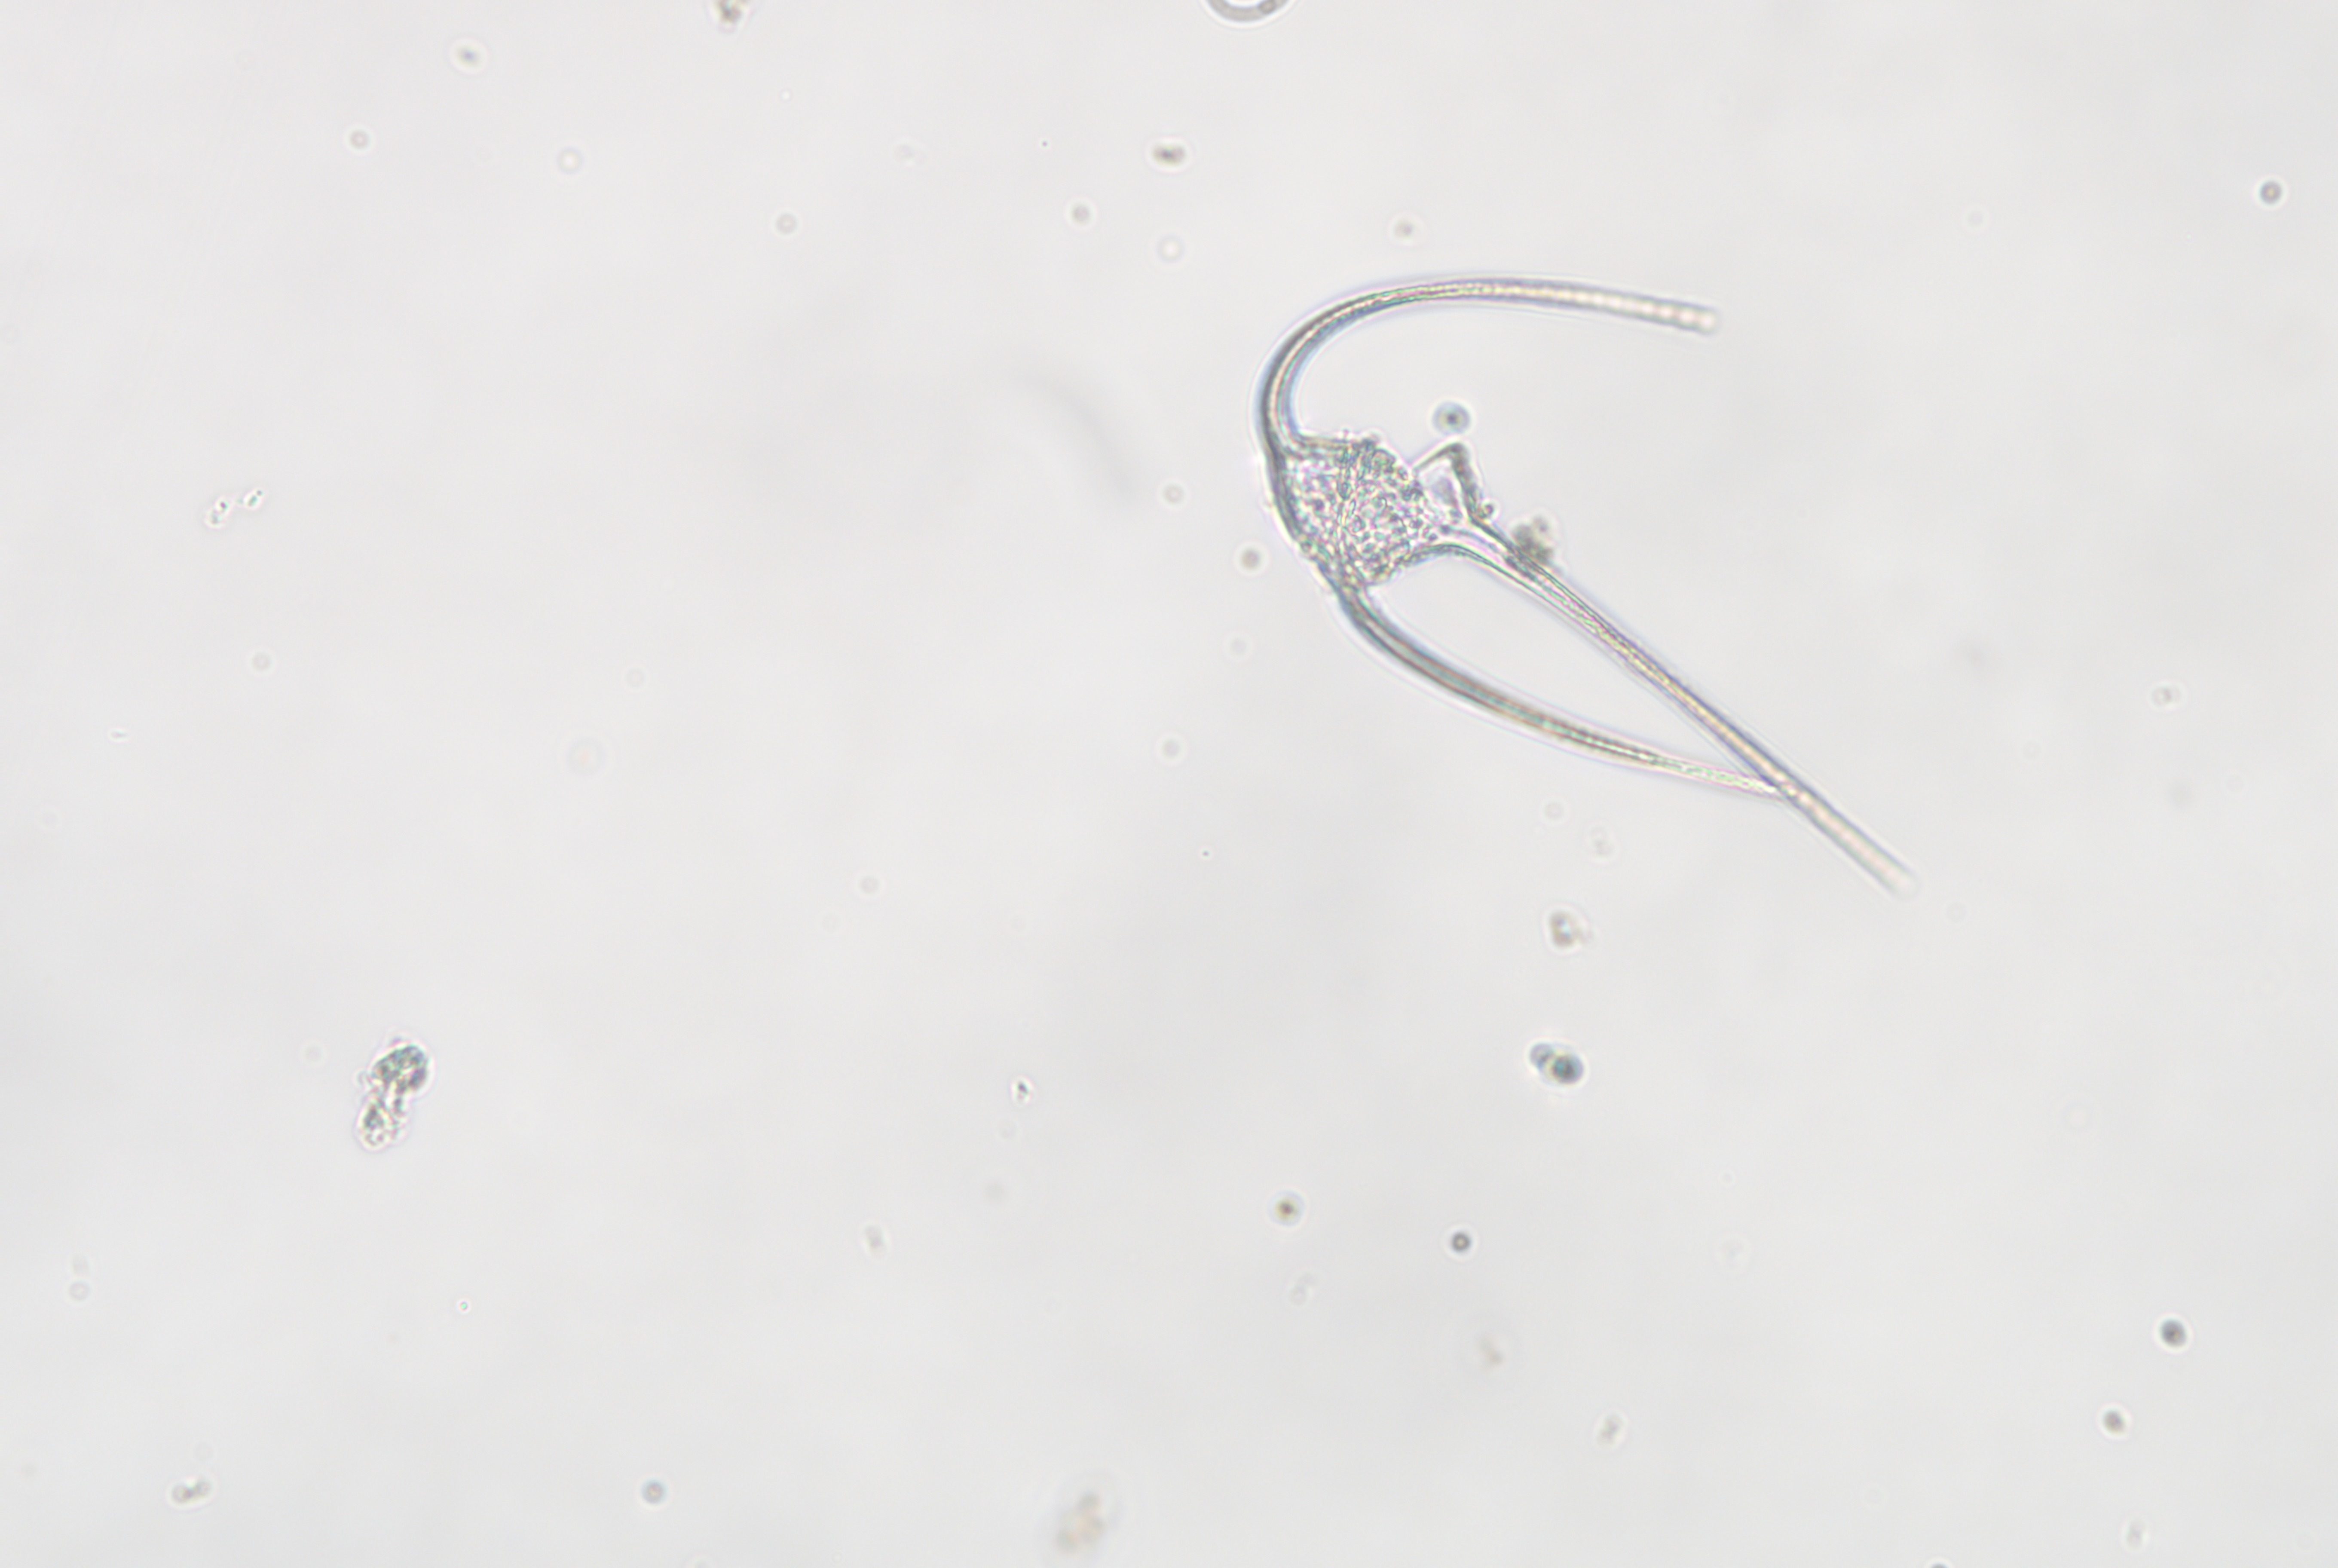ceratium trichoceros: (1253, 278, 1918, 896)
